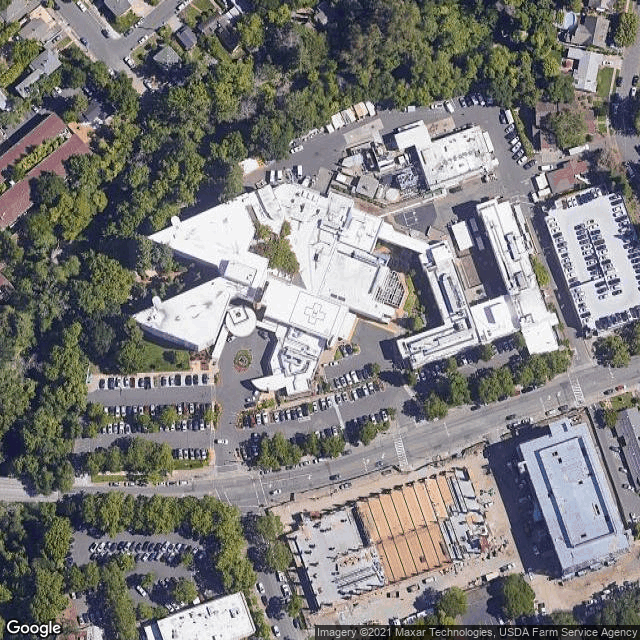Helipad: (296, 289, 333, 332)
